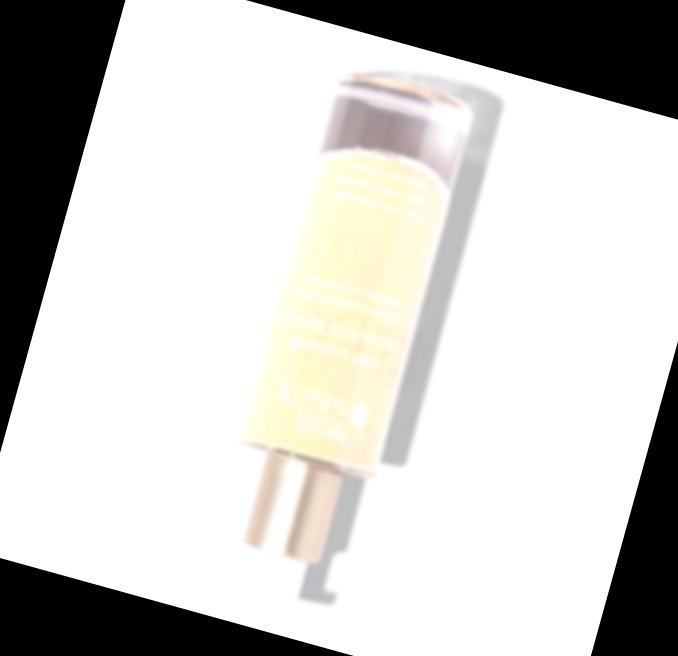cosmetic: (193, 72, 476, 624)
